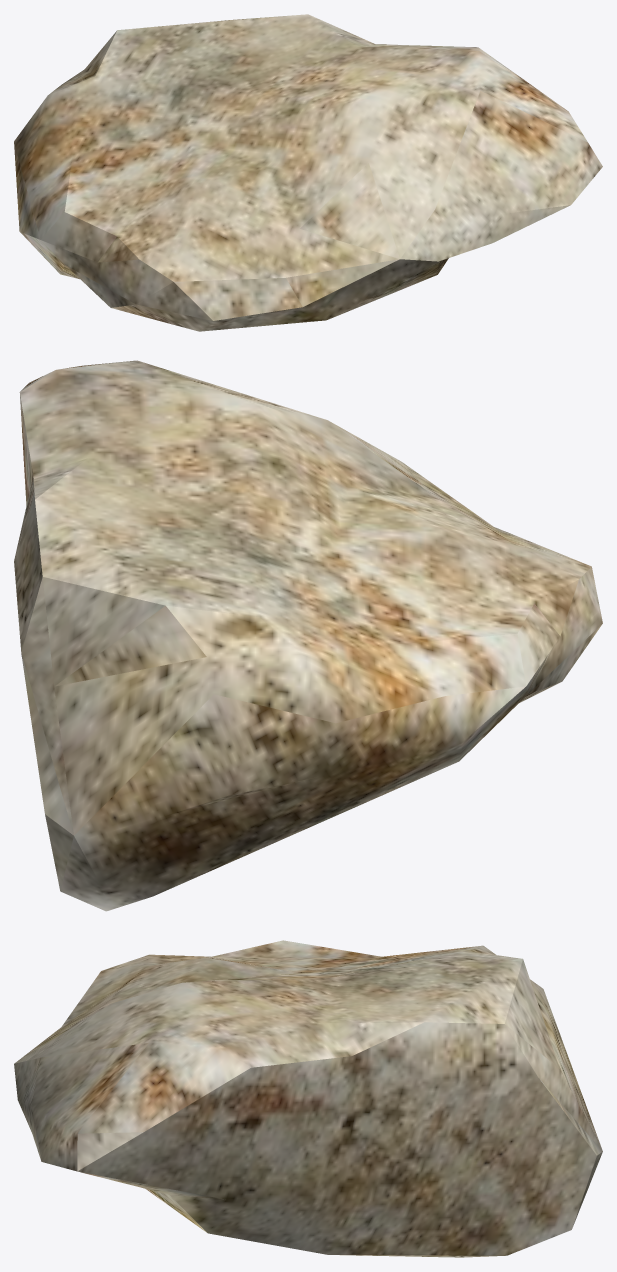
File: rock010.glb
3 renders of one model, top to bottom at view 1: azimuth 30°, elevation 25°; view 2: azimuth 150°, elevation 25°; view 3: azimuth 270°, elevation 25°, orthographic. The views are drawn at different scales.
Parts seen in each view (by area): view 1: rock010; view 2: rock010; view 3: rock010.
Part boxes in pixels (x1,y1,x2,y2): rock010: [14, 14, 602, 331]; rock010: [14, 360, 602, 911]; rock010: [14, 940, 602, 1257].
Bounding box in the file's own units: 0.9733 × 0.5378 × 0.9862.
Materials: 1 (1 with a texture image).
